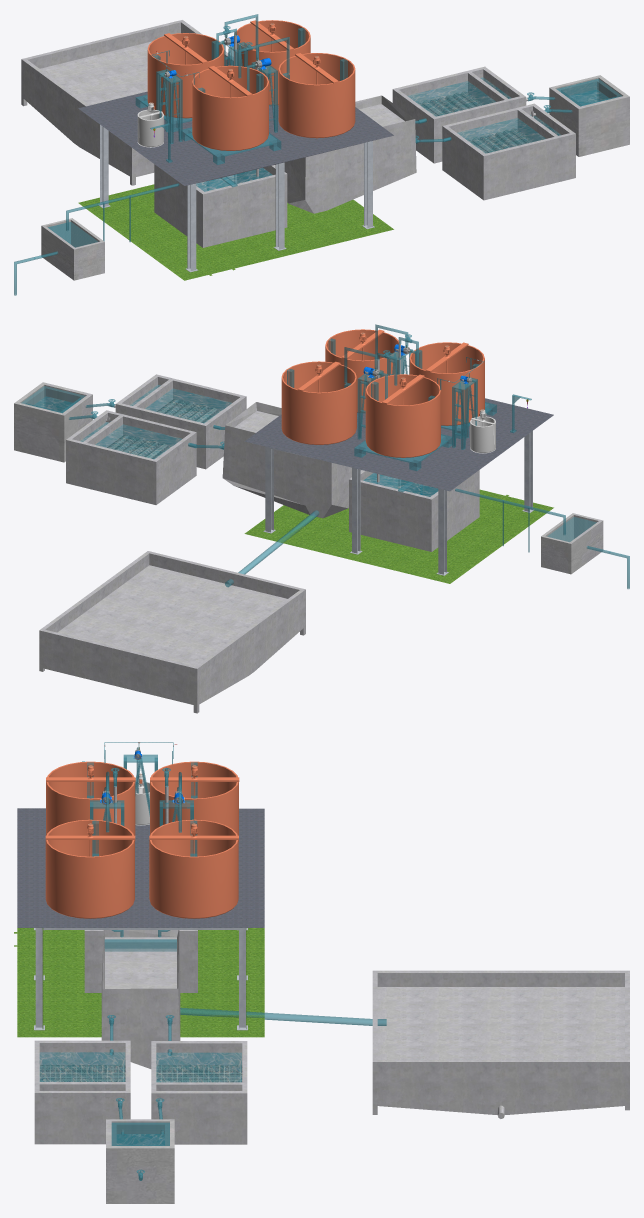
File: STP-version-1.glb
3 views of the same model, one above another, from view 1: azimuth 30°, elevation 25°; view 2: azimuth 150°, elevation 25°; view 3: azimuth 270°, elevation 25° (orthographic). The views are drawn at different scales.
Parts seen in each view (by area): view 1: _G-Object.120 (Loose Mesh), _(Loose Entity), G-Object.187, G-Object, G-Object.096, _G-Object.127 (Loose Mesh), G-Object.095, _G-Object.097 (Loose Mesh), _G-Object.184 (Loose Mesh), Cube, Cube.001, G-Object.001 (+6 smaller); view 2: G-Object.187, _G-Object.120 (Loose Mesh), _(Loose Entity), G-Object, G-Object.096, _G-Object.184 (Loose Mesh), G-Object.095, _G-Object.097 (Loose Mesh), _G-Object.127 (Loose Mesh), Cube, Cube.001, G-Object.001 (+6 smaller); view 3: G-Object.187, _G-Object.120 (Loose Mesh), G-Object.096, _(Loose Entity), G-Object, G-Object.095, _G-Object.127 (Loose Mesh), _G-Object.184 (Loose Mesh), Cube, _G-Object.097 (Loose Mesh), G-Object.186, G-Object.129 (+3 smaller).
Part boxes in pixels (x1=…): _G-Object.120 (Loose Mesh): x1=78, y1=91, x2=393, y2=280; _(Loose Entity): x1=14, y1=14, x2=621, y2=295; G-Object.187: x1=21, y1=20, x2=233, y2=185; G-Object: x1=147, y1=33, x2=268, y2=150; G-Object.096: x1=235, y1=20, x2=355, y2=138; _G-Object.127 (Loose Mesh): x1=442, y1=103, x2=575, y2=200; G-Object.095: x1=275, y1=95, x2=416, y2=213; _G-Object.097 (Loose Mesh): x1=154, y1=35, x2=287, y2=247; _G-Object.184 (Loose Mesh): x1=392, y1=66, x2=528, y2=163; Cube: x1=549, y1=75, x2=629, y2=156; Cube.001: x1=41, y1=218, x2=104, y2=280; G-Object.001: x1=137, y1=102, x2=163, y2=147; G-Object.187: x1=39, y1=551, x2=305, y2=713; _G-Object.120 (Loose Mesh): x1=244, y1=398, x2=553, y2=583; _(Loose Entity): x1=22, y1=324, x2=629, y2=588; G-Object: x1=365, y1=342, x2=484, y2=457; G-Object.096: x1=281, y1=329, x2=399, y2=444; _G-Object.184 (Loose Mesh): x1=66, y1=410, x2=196, y2=504; G-Object.095: x1=222, y1=402, x2=361, y2=518; _G-Object.097 (Loose Mesh): x1=349, y1=343, x2=479, y2=551; _G-Object.127 (Loose Mesh): x1=114, y1=374, x2=246, y2=469; Cube: x1=14, y1=382, x2=92, y2=462; Cube.001: x1=541, y1=513, x2=603, y2=574; G-Object.001: x1=470, y1=409, x2=495, y2=453; G-Object.187: x1=372, y1=970, x2=629, y2=1118; _G-Object.120 (Loose Mesh): x1=14, y1=808, x2=264, y2=1037; G-Object.096: x1=45, y1=819, x2=238, y2=918; _(Loose Entity): x1=40, y1=742, x2=386, y2=1180; G-Object: x1=46, y1=761, x2=239, y2=841; G-Object.095: x1=101, y1=930, x2=180, y2=1068; _G-Object.127 (Loose Mesh): x1=34, y1=1040, x2=130, y2=1144; _G-Object.184 (Loose Mesh): x1=151, y1=1041, x2=247, y2=1144; Cube: x1=106, y1=1119, x2=174, y2=1203; _G-Object.097 (Loose Mesh): x1=84, y1=786, x2=197, y2=992; G-Object.186: x1=156, y1=1065, x2=242, y2=1082; G-Object.129: x1=39, y1=1065, x2=125, y2=1081.
Size of the model in its own units: 24.2 by 8.28 by 17.94.
36 materials, 9 textured.
